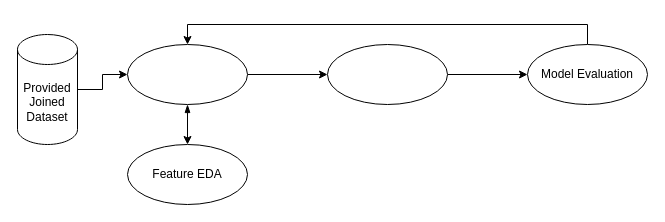
Some shapes in this 665 by 222 pixel diagram are drawn without their labels. Here are the shapes that lost their labels. From the top down, the centre of each, then its label:
At (187,74): "Feature Engineering".
At (387,74): "Cross-Validation".
